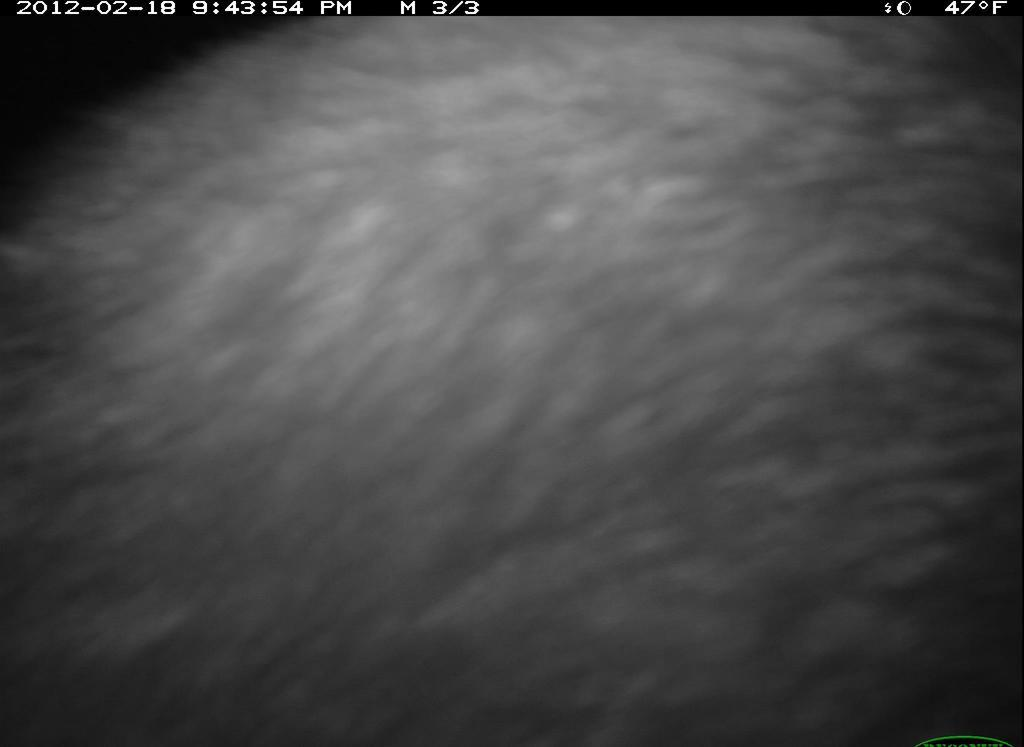raccoon: (6, 20, 1023, 744)
